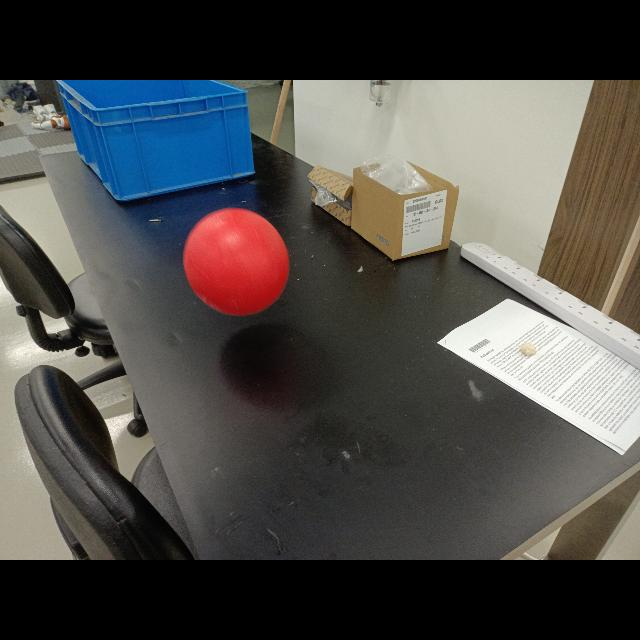R: (182, 208, 290, 316)
